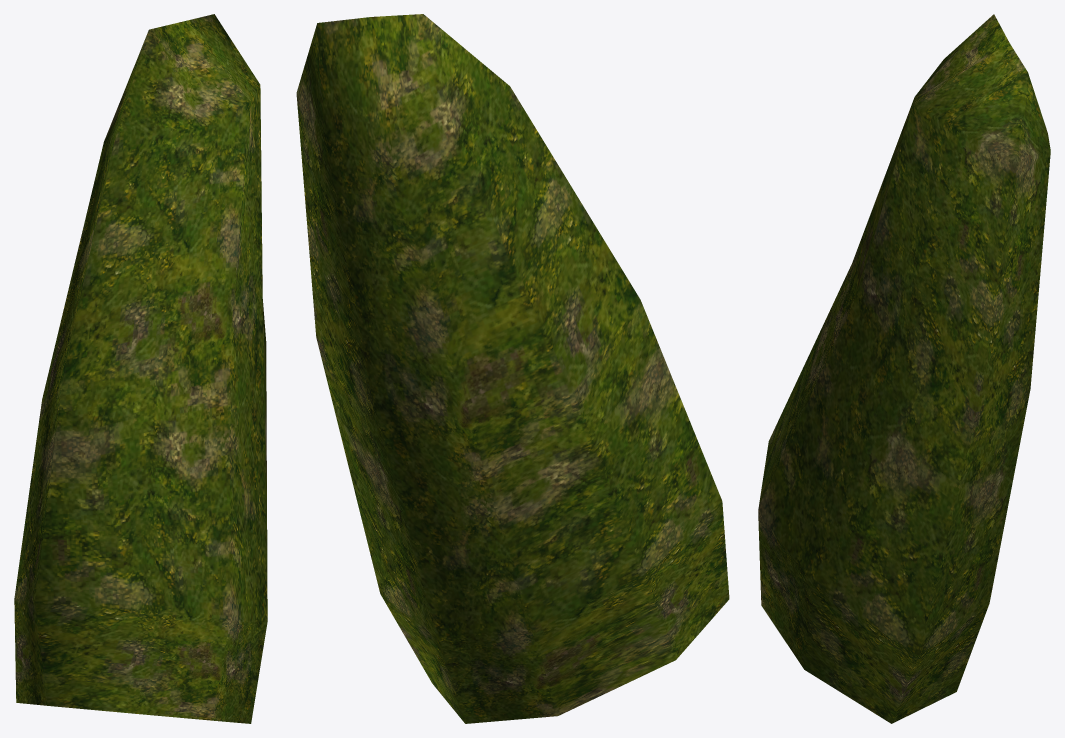
The model's file is OVERHILL_A_01_BR_ROCK206.fbx.
The picture shows the model from 3 angles, left to right: view 1: azimuth 30°, elevation 25°; view 2: azimuth 150°, elevation 25°; view 3: azimuth 270°, elevation 25°; orthographic projection. The views are drawn at different scales.
Parts seen in each view (by area): view 1: OVERHILL_A_01_BR_ROCK206; view 2: OVERHILL_A_01_BR_ROCK206; view 3: OVERHILL_A_01_BR_ROCK206.
Boxes of the visible parts, x1,y1,x2,y2 form: OVERHILL_A_01_BR_ROCK206: (14, 14, 267, 723); OVERHILL_A_01_BR_ROCK206: (296, 14, 729, 723); OVERHILL_A_01_BR_ROCK206: (758, 14, 1050, 723).
Size of the model in its own units: 33833 by 71027 by 27341.
Materials: 1 (1 with a texture image).
